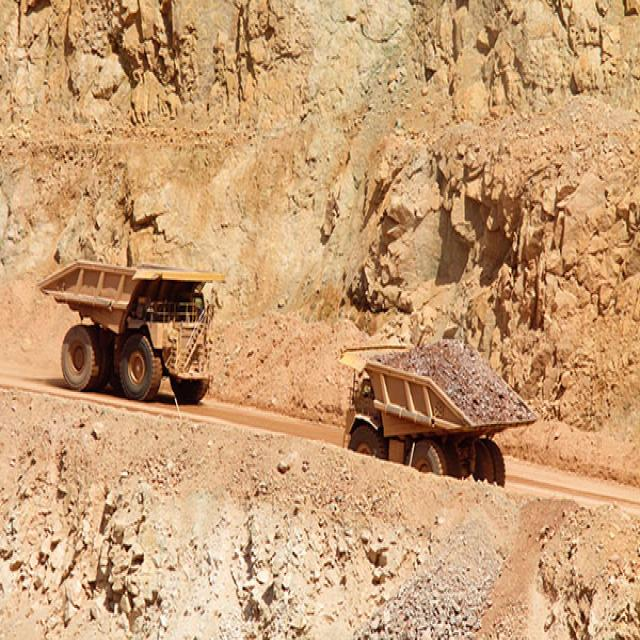dump_truck: (336, 327, 538, 502), (40, 250, 222, 410)
